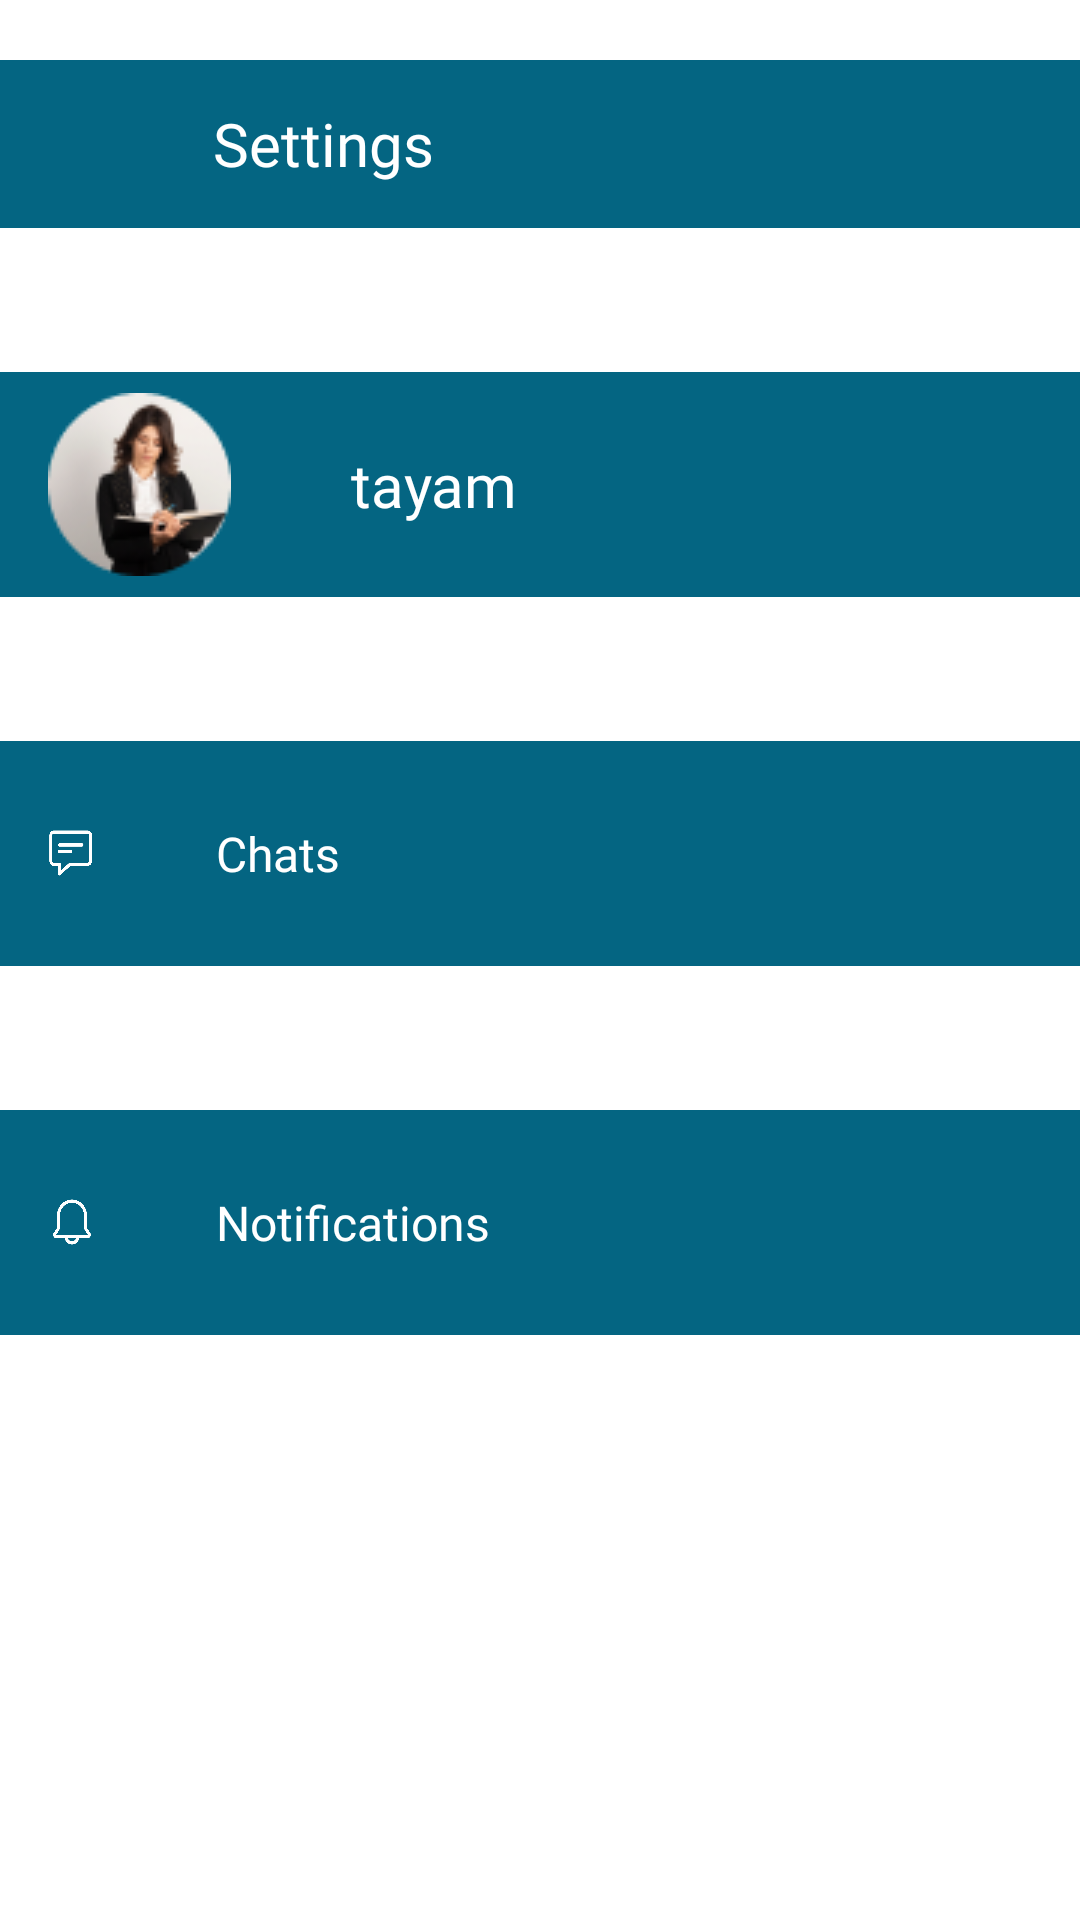

Screen size 1080 × 1920. Icon name, then its box in pixels as (x1, y1, x2, y2):
ntoficationicon: (53, 1199, 91, 1245)
userphoto: (48, 393, 231, 576)
